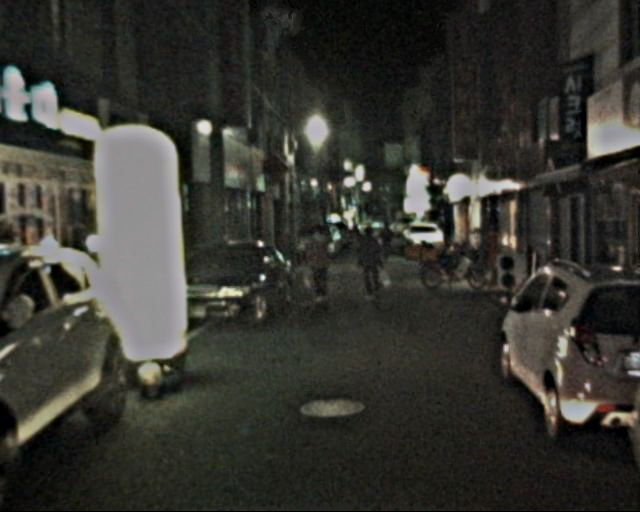person: (302, 223, 339, 308), (353, 224, 385, 301), (380, 216, 395, 253)
